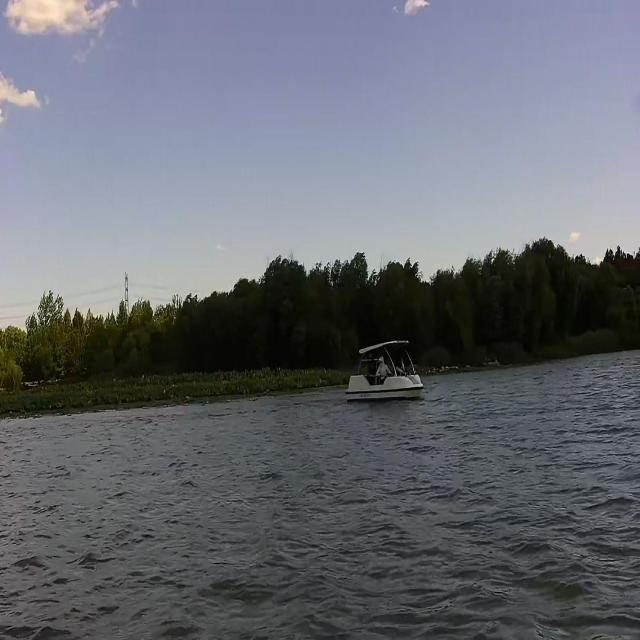CIV_Ship: (342, 336, 427, 404)
